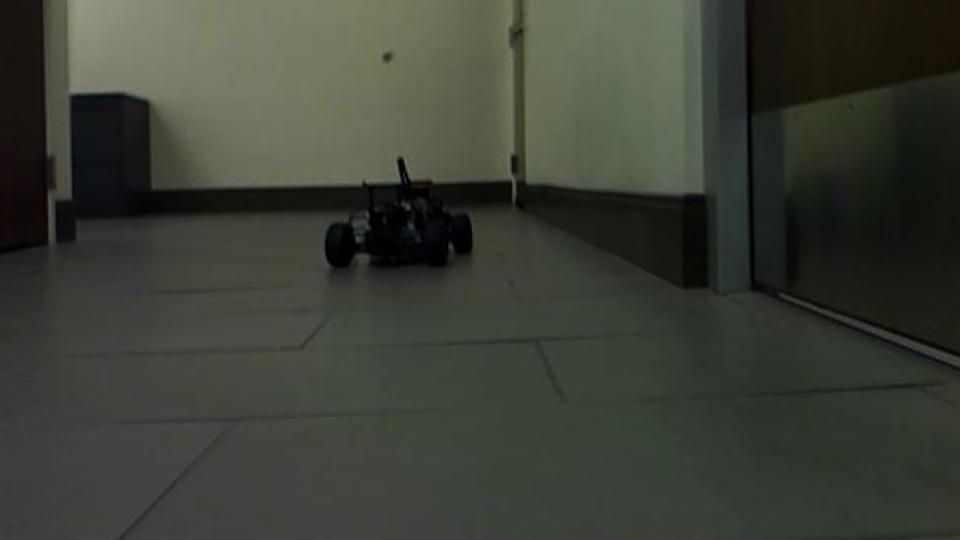car: (320, 150, 476, 272)
